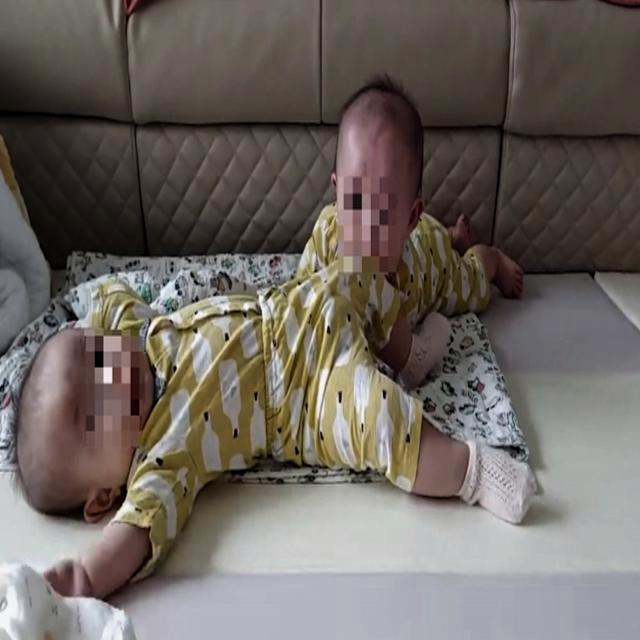child: (14, 275, 543, 605), (293, 81, 524, 346)
